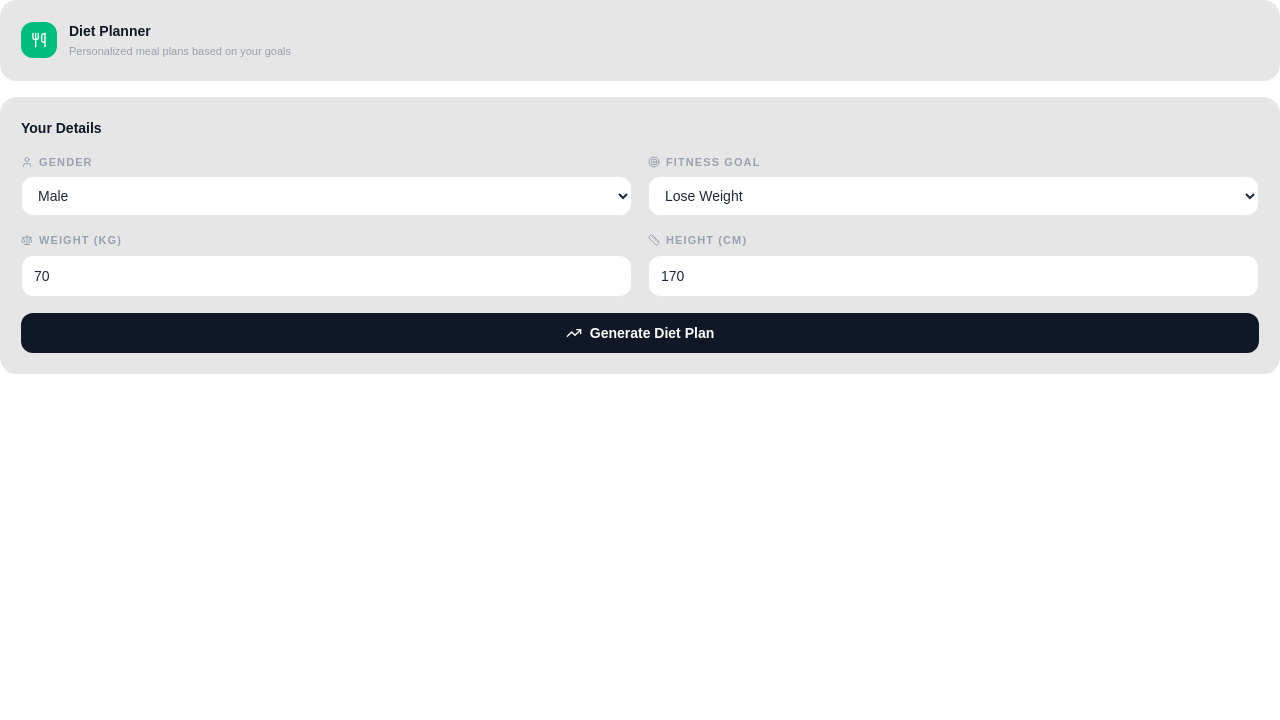
falls back to local diet API and shows fridge-based recipes
Expected: the heading "Diet Planner" is shown, left=69, top=23, right=151, bottom=39
Select "Male" in the dropdown labelled "Gender". click: (326, 196)
box: left=21, top=176, right=632, bottom=216
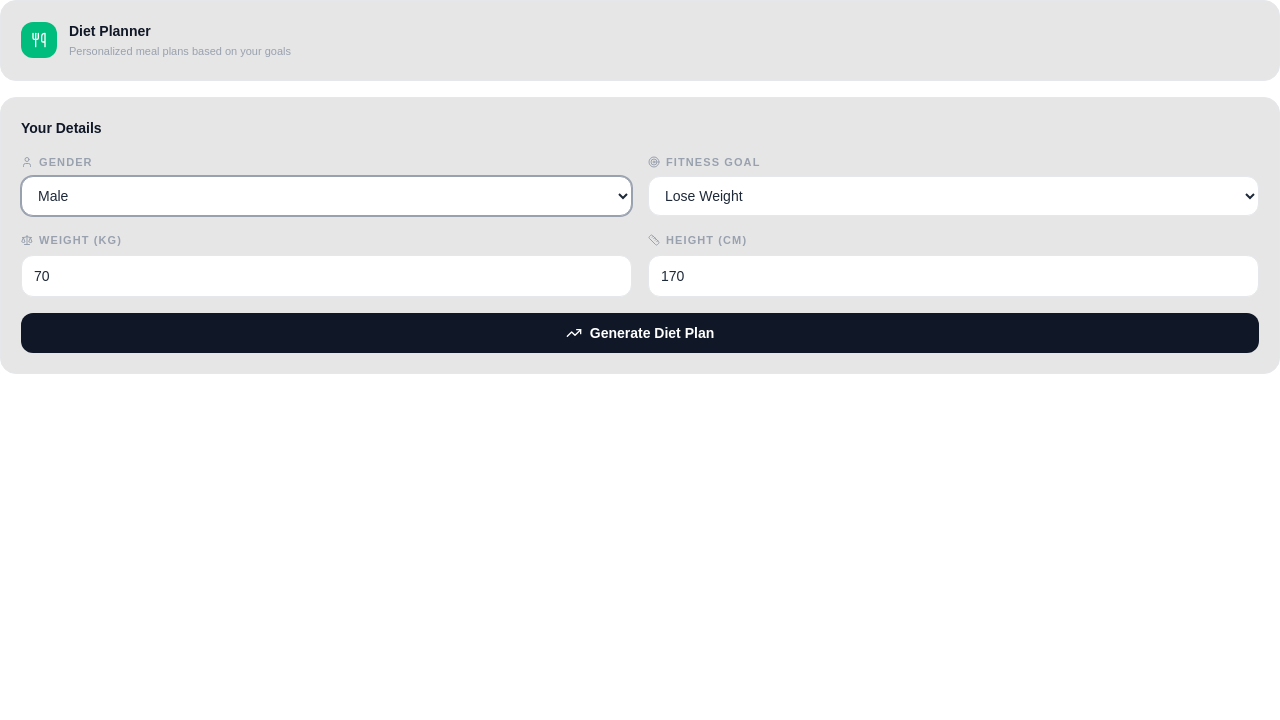
Select "Lose Weight" in the dropdown labelled "Fitness Goal". click: (954, 196)
box: left=648, top=176, right=1259, bottom=216
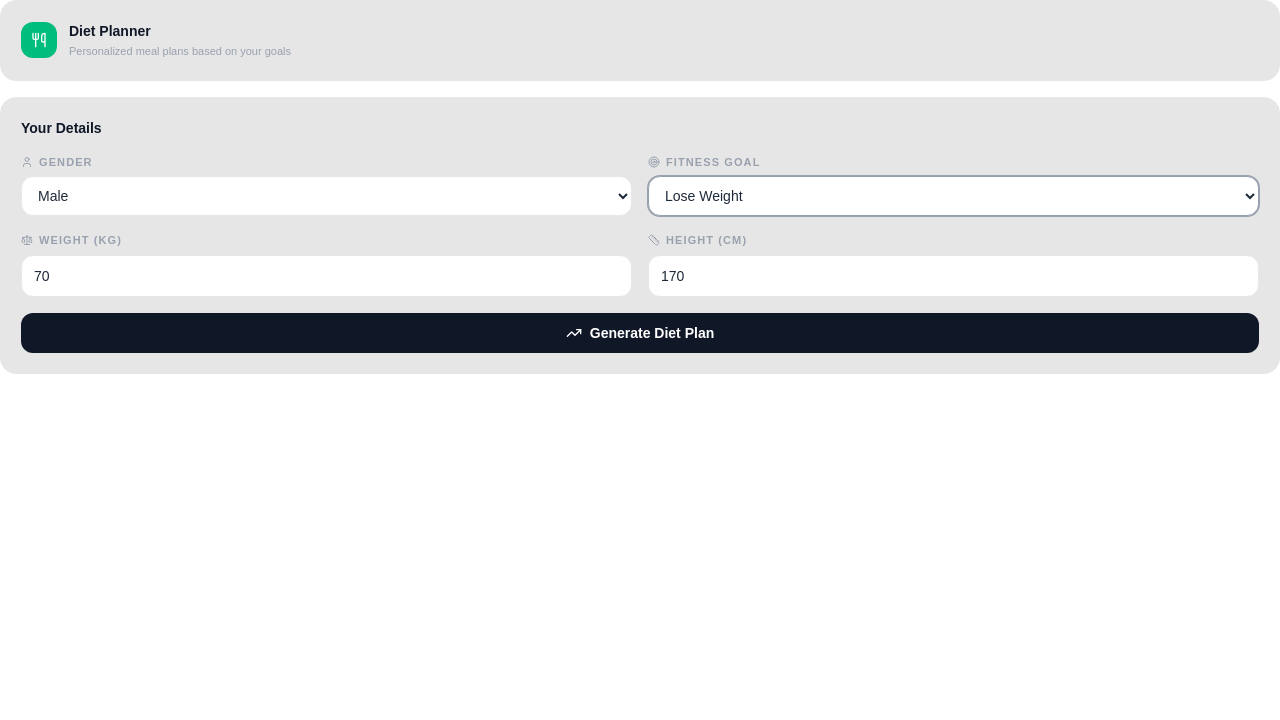
Click the button "Generate Diet Plan". click: click(640, 332)
box: left=21, top=312, right=1259, bottom=352
(page scrolled)
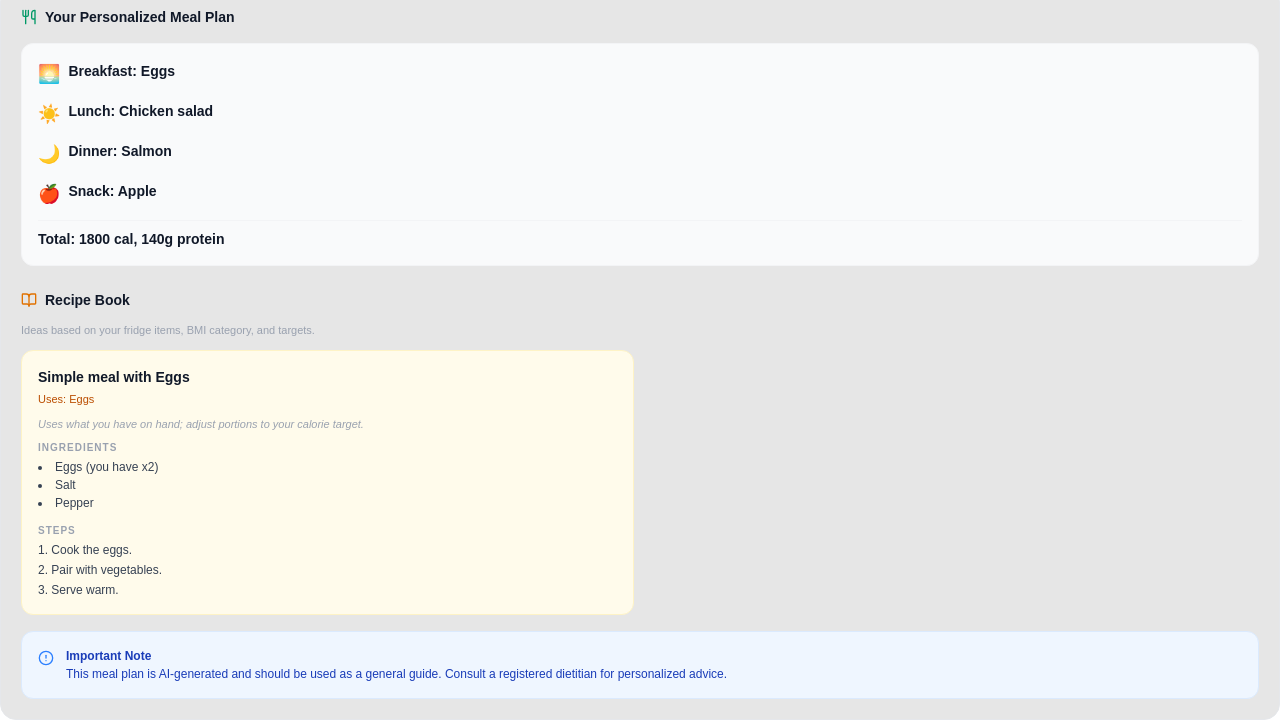
Expected: the text "Recipe Book" is shown, left=45, top=290, right=130, bottom=310
Expected: the text "Simple meal with Eggs" is shown, left=38, top=369, right=190, bottom=385
Expected: the text "Uses: Eggs" is shown, left=38, top=393, right=94, bottom=405
